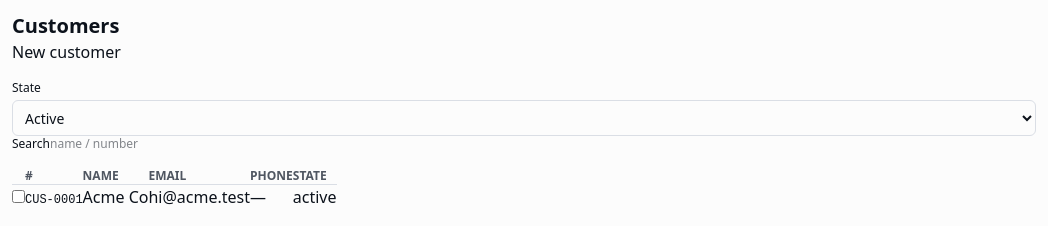
Test case: <CustomersListPage /> › renders customers and toggles archived filter
Select "Archived" in the dropdown with test id "filter-state" at [524, 118], box [12,100,1036,136]
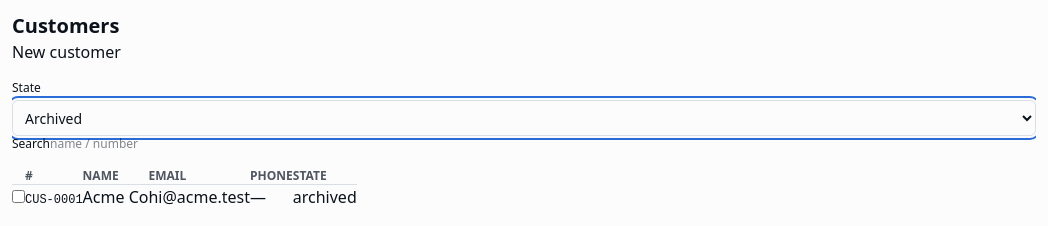
Expected: the cell "archived" is shown, [293,184,357,209]
